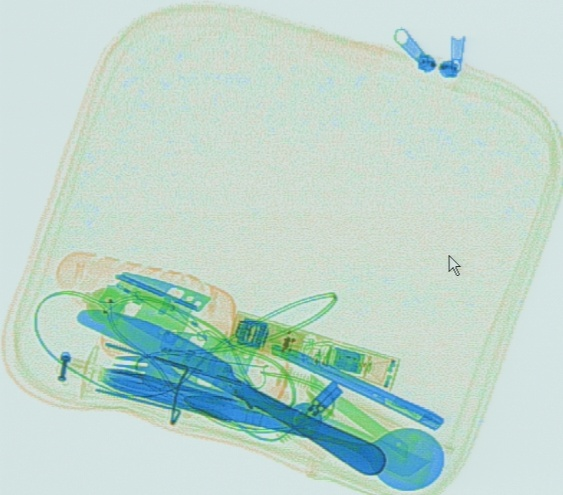knife: (75, 302, 389, 477), (267, 340, 447, 432), (309, 412, 433, 480), (327, 390, 413, 456)
